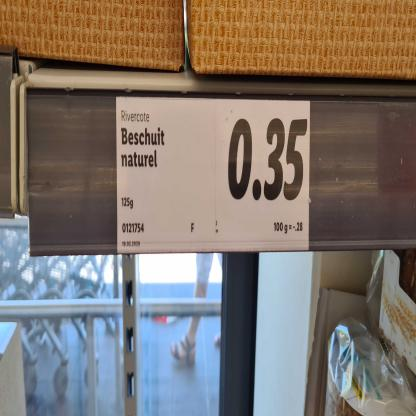prtg: (117, 98, 311, 257)
